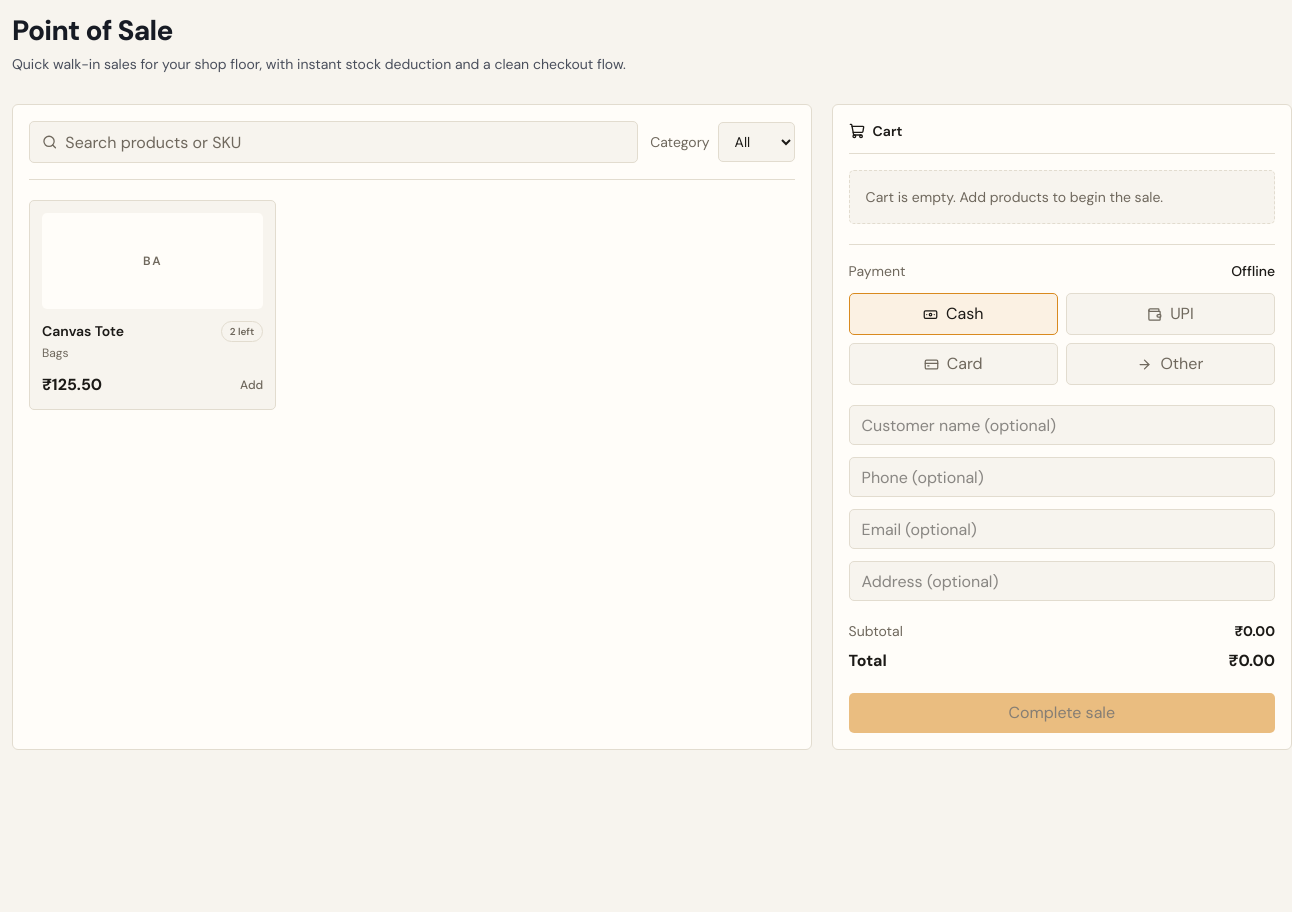
Scenario: POS checkout › reuses an idempotency key after a retryable request failure
Click the button "Ba Canvas Tote Bags 2 left ₹125.50 Add" at (153,305), box [29,200,276,410]
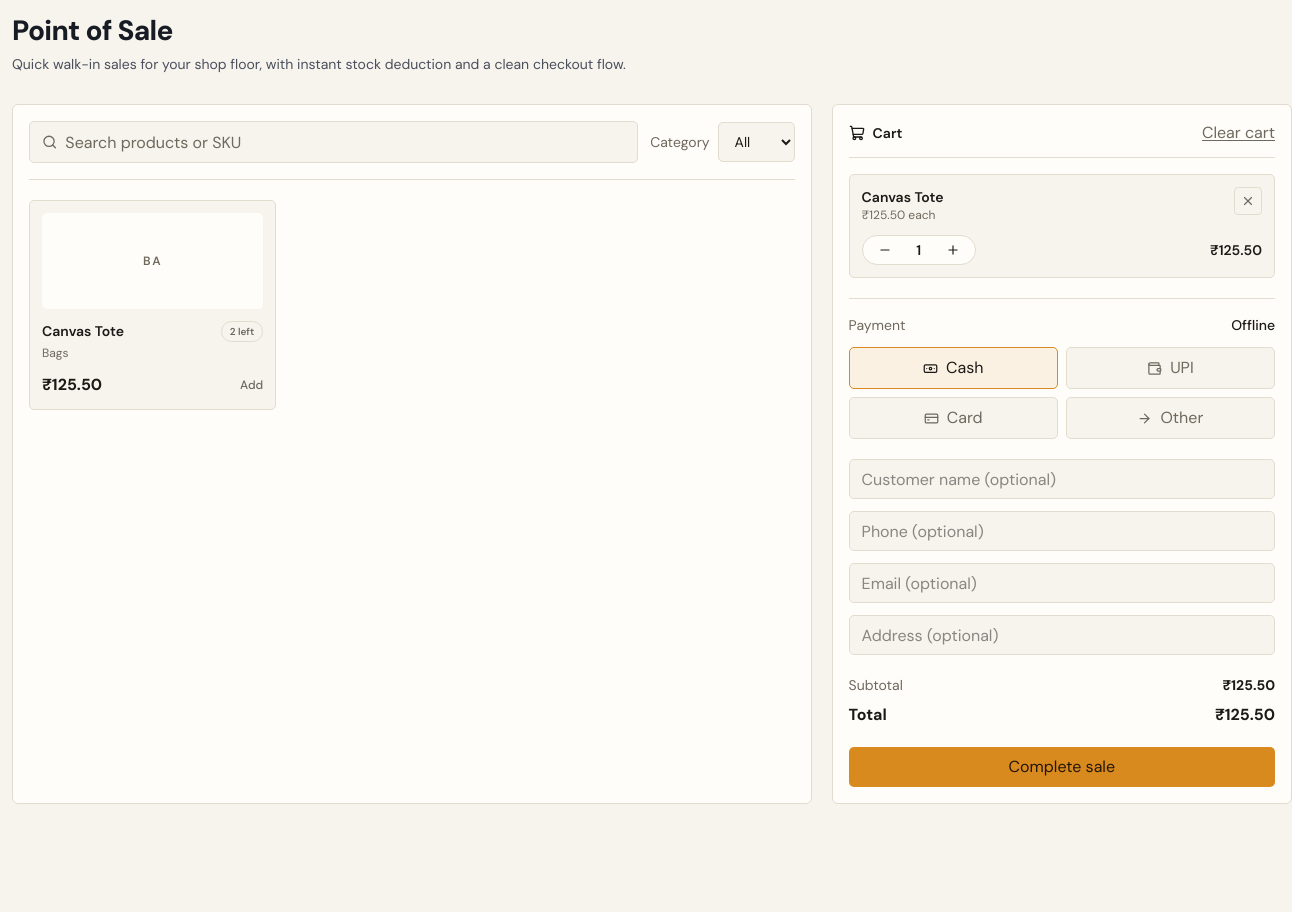
Click the button "Complete sale" at (1062,767), box [849,747,1275,787]
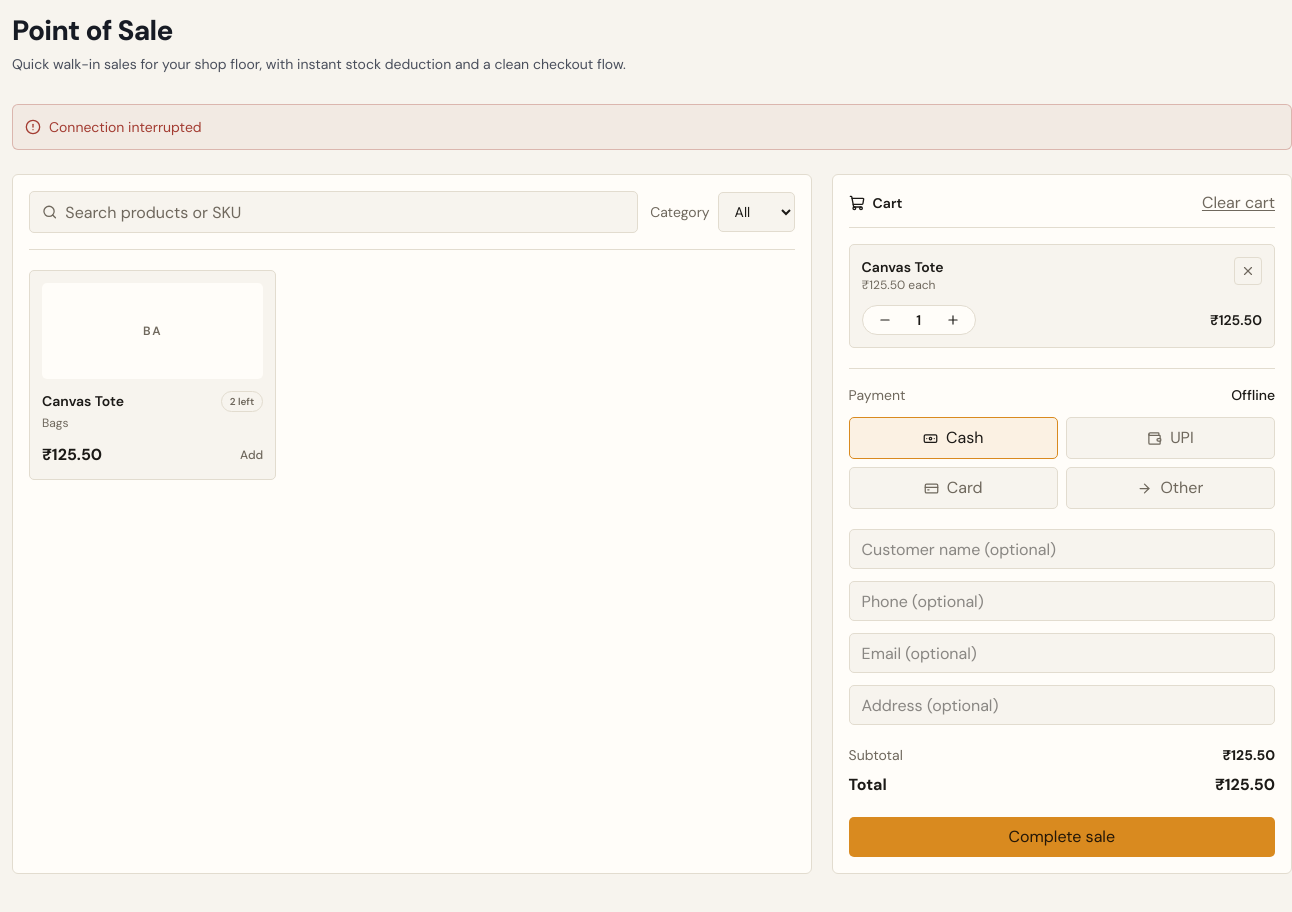
Now the text "Connection interrupted" is shown, box [49,117,202,137]
Click the button "Complete sale" at (1062,837), box [849,817,1275,857]
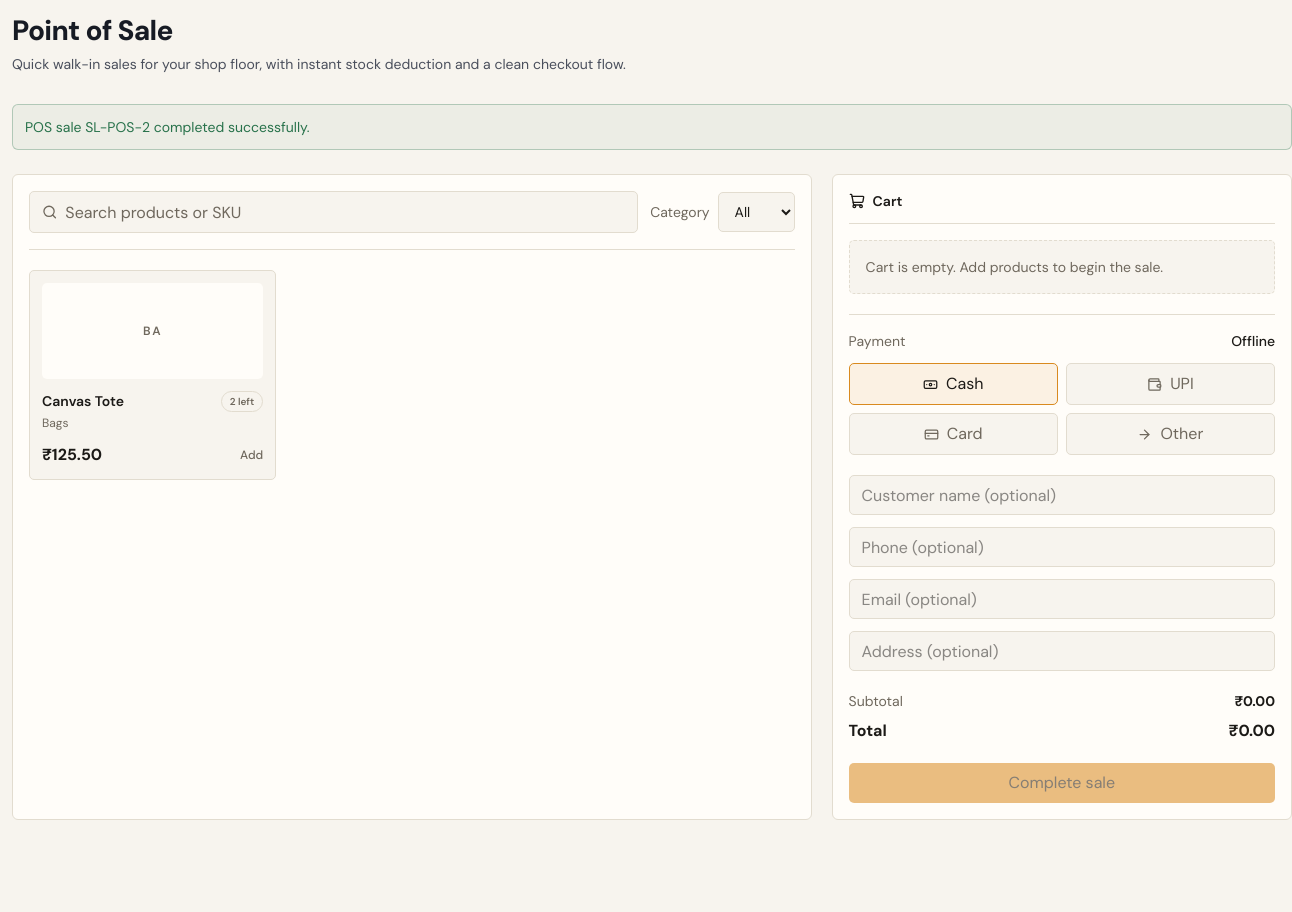
Now the text "POS sale SL-POS-2 completed successfully." is shown, box [12,104,1291,150]
